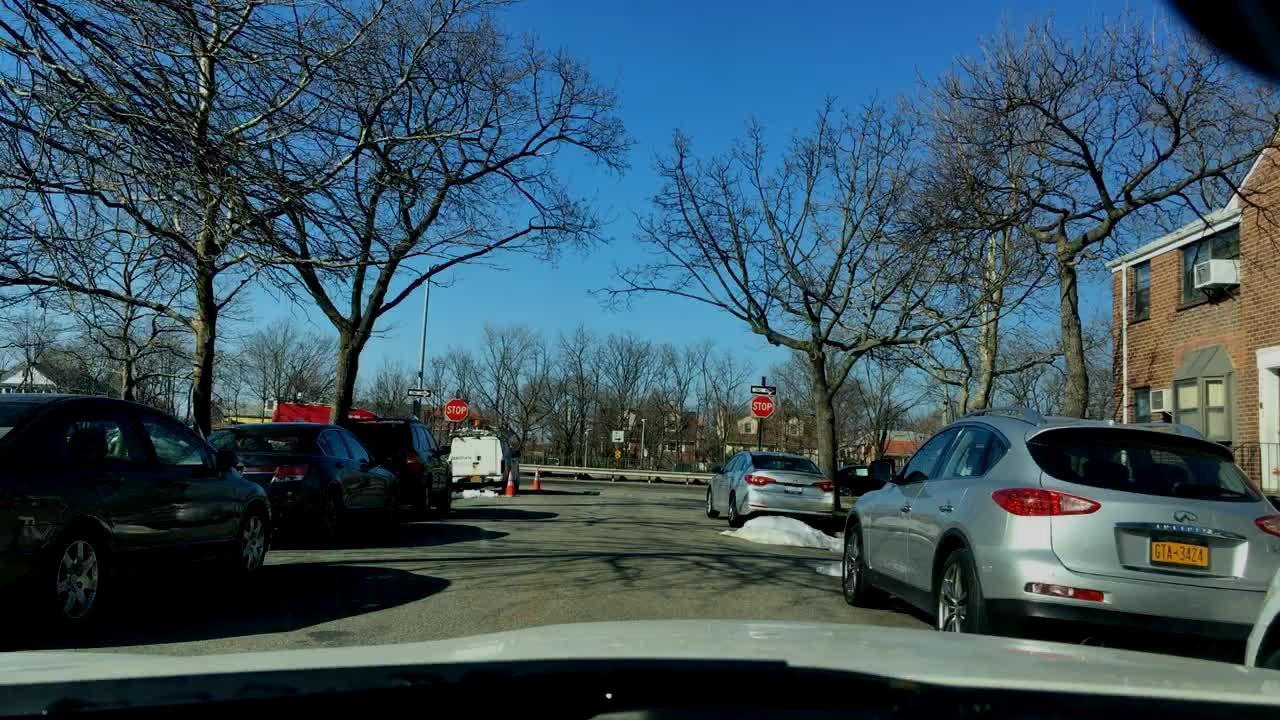Infiniti: (1166, 503, 1210, 532)
